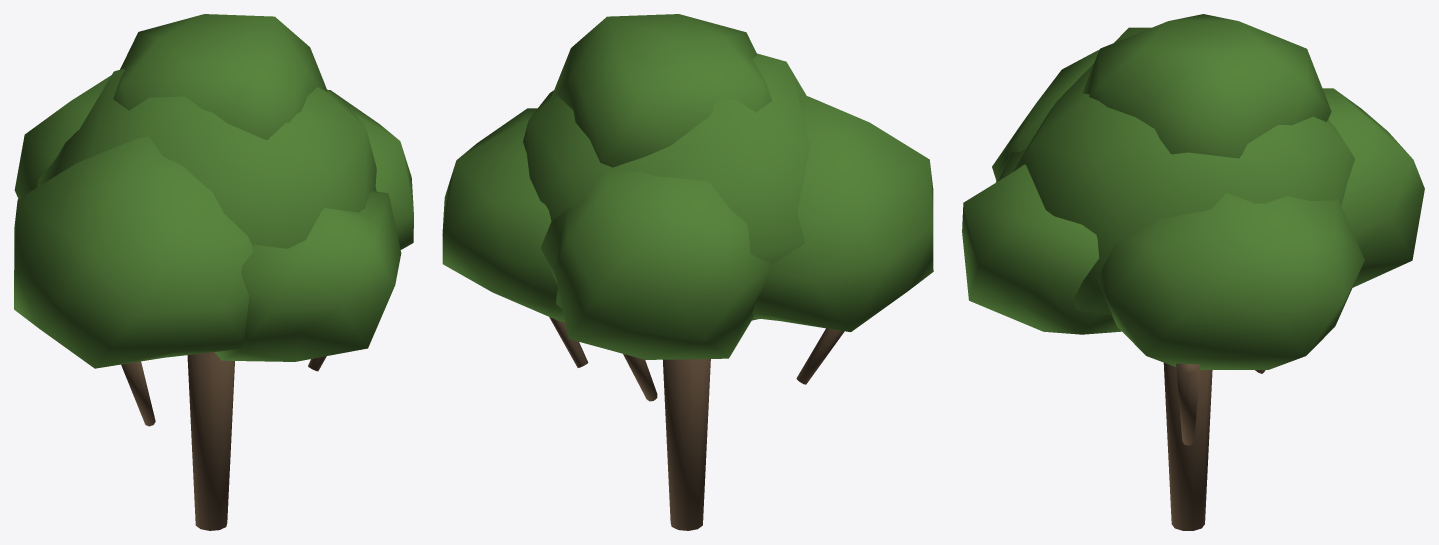
The model's file is neem.glb.
3 renders of one model, left to right at view 1: azimuth 30°, elevation 25°; view 2: azimuth 150°, elevation 25°; view 3: azimuth 270°, elevation 25°, orthographic. The views are drawn at different scales.
Visible parts, largest first — view 1: Canopy2, Canopy0, Canopy3, Canopy5, Trunk, Canopy4, Canopy1, Branch1; view 2: Canopy4, Canopy2, Canopy0, Canopy5, Canopy1, Trunk, Branch1, Branch2, Branch0; view 3: Canopy1, Canopy0, Canopy5, Canopy3, Canopy4, Trunk, Canopy2, Branch0.
Part boxes in pixels (bbox=[...]): Canopy2: bbox=[14, 136, 252, 368]; Canopy0: bbox=[37, 68, 376, 248]; Canopy3: bbox=[215, 191, 401, 361]; Canopy5: bbox=[113, 14, 327, 140]; Trunk: bbox=[187, 352, 234, 530]; Canopy4: bbox=[14, 75, 111, 198]; Canopy1: bbox=[328, 90, 413, 249]; Branch1: bbox=[121, 361, 155, 426]; Canopy4: bbox=[540, 171, 773, 359]; Canopy2: bbox=[752, 93, 933, 332]; Canopy0: bbox=[523, 53, 810, 320]; Canopy5: bbox=[551, 14, 771, 167]; Canopy1: bbox=[442, 108, 564, 322]; Trunk: bbox=[663, 359, 710, 530]; Branch1: bbox=[796, 328, 844, 384]; Branch2: bbox=[623, 354, 657, 401]; Branch0: bbox=[549, 317, 588, 367]; Canopy1: bbox=[1097, 193, 1364, 369]; Canopy0: bbox=[1012, 27, 1354, 314]; Canopy5: bbox=[1082, 14, 1331, 158]; Canopy3: bbox=[962, 148, 1121, 334]; Canopy4: bbox=[1322, 88, 1424, 287]; Trunk: bbox=[1163, 362, 1212, 530]; Canopy2: bbox=[992, 50, 1099, 180]; Branch0: bbox=[1176, 363, 1200, 445].
Size of the model in its own units: 6.22 by 7.28 by 6.11.
